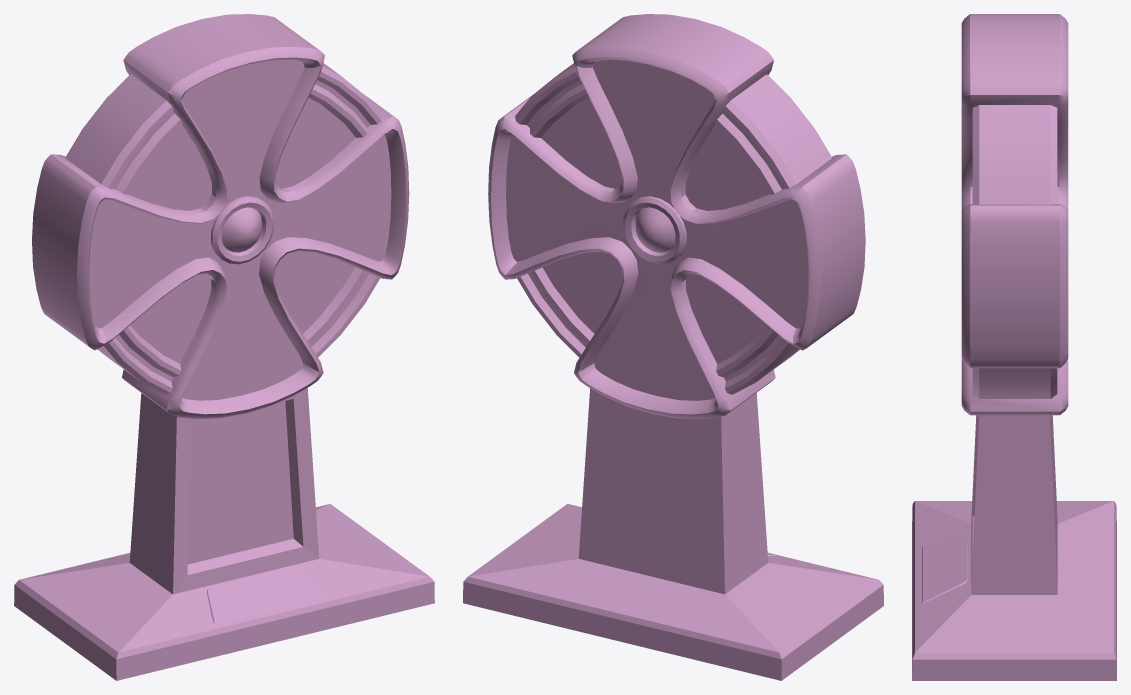
File: grave_cross_2.fbx
3 views of the same model, side by side, from view 1: azimuth 30°, elevation 25°; view 2: azimuth 150°, elevation 25°; view 3: azimuth 270°, elevation 25° (orthographic).
Parts seen in each view (by area): view 1: grave_cross_2; view 2: grave_cross_2; view 3: grave_cross_2.
Part boxes in pixels (bbox=[...]): grave_cross_2: bbox=[14, 14, 434, 680]; grave_cross_2: bbox=[463, 14, 883, 680]; grave_cross_2: bbox=[912, 14, 1116, 680].
Size of the model in its own units: 0.7238 by 1.18 by 0.3862.
